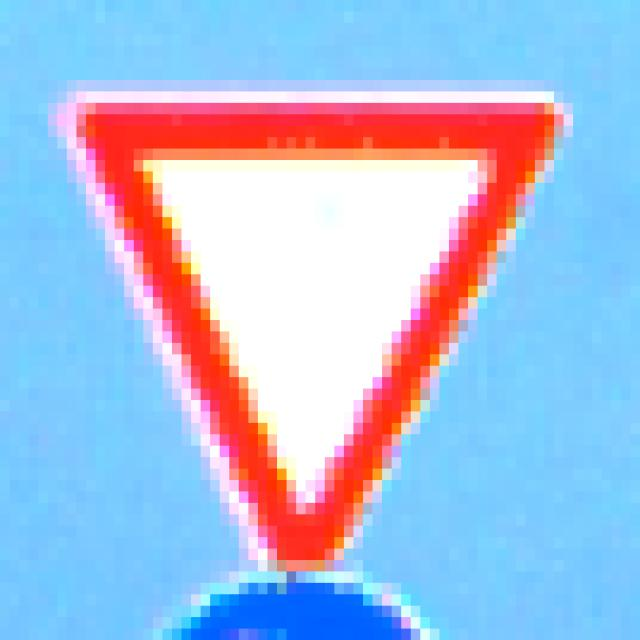Give Way: (58, 58, 584, 584)
